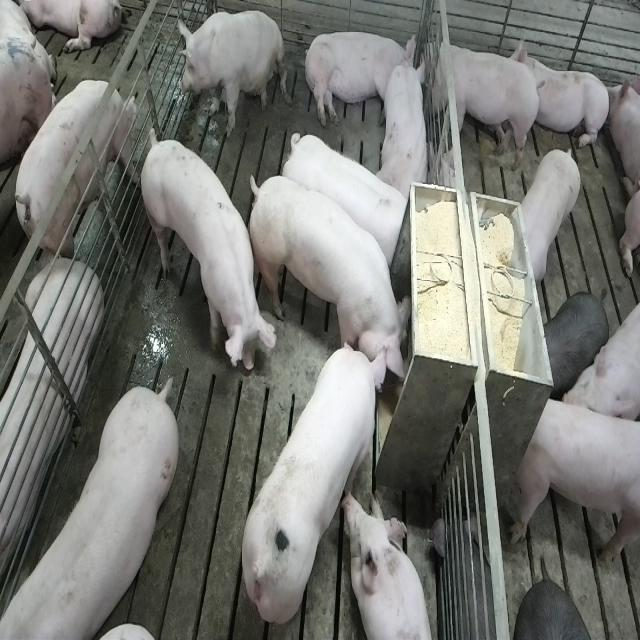Feeding: (240, 338, 391, 625), (252, 173, 418, 396)
Lateral_lying: (302, 28, 419, 128)
Sitting: (177, 6, 286, 137)
Standing: (0, 381, 176, 640), (136, 123, 272, 377), (8, 78, 134, 264), (512, 391, 638, 568), (282, 127, 411, 264), (424, 27, 542, 171), (514, 143, 583, 288), (543, 292, 609, 405)
Sternal_lying: (0, 258, 101, 596), (346, 491, 436, 640), (514, 33, 612, 157), (378, 46, 432, 202)
